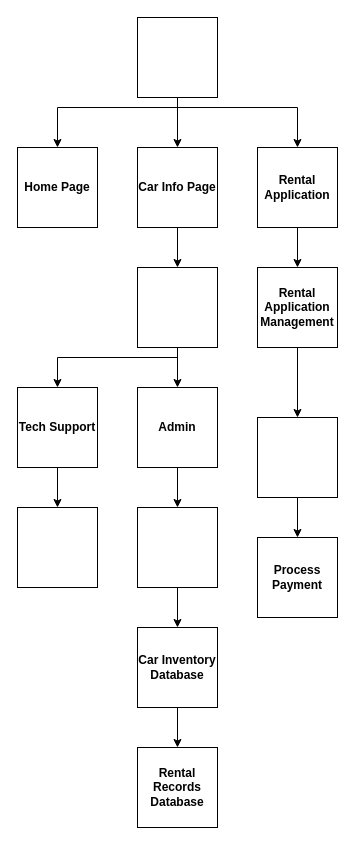
This 355x845 diagram has some shape labels left out. The box of each missing label's shape, as (x1, y1, x2, y2) in pixels:
Customers: (136, 16, 218, 98)
Finance Department: (256, 416, 338, 498)
Handle Rental Requests: (136, 506, 218, 588)
Inquiry Management: (136, 266, 218, 348)
Inquiry Response: (16, 506, 98, 588)
